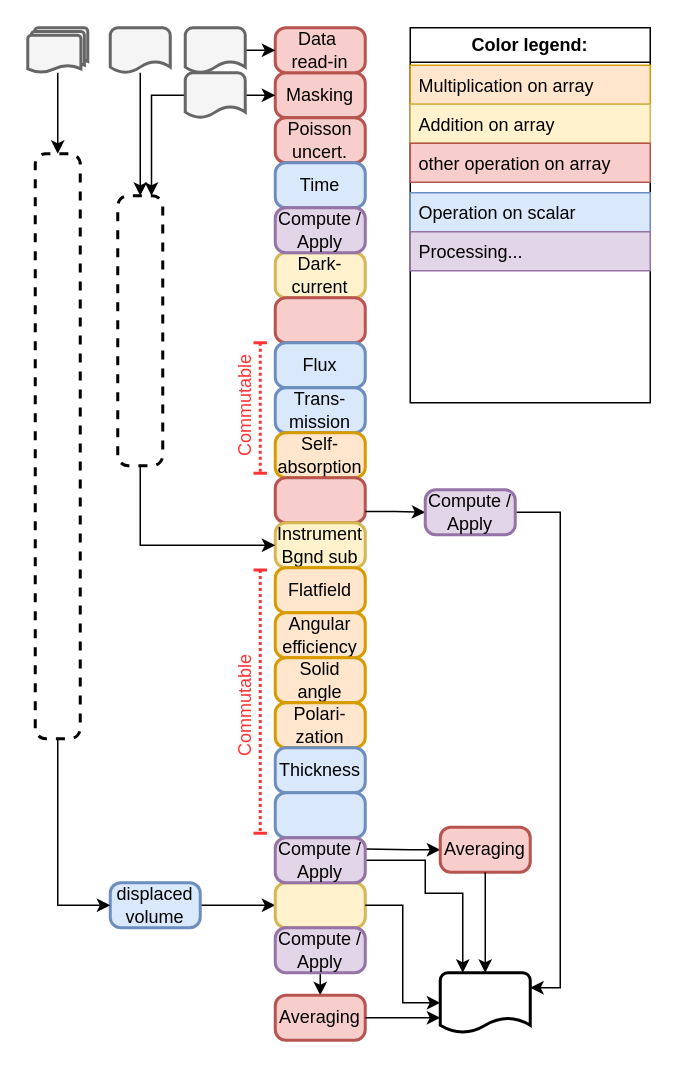
The diagram is 677 pixels wide and 1067 high, and some of its shapes have lost their labels. Here are the shapes that lost their labels. From the top down, the centre of each, then its label:
At point (140, 330): "Match processing of main ...".
At point (319, 320): "Countrate".
At point (57, 446): "Match processing, or extract from absolute backgrounds library & remap".
At point (319, 500): "Frame averaging".
At point (319, 814): "(absolute units)".
At point (319, 904): "Dispersant Bgnd sub".
At point (484, 1002): "Output record".
